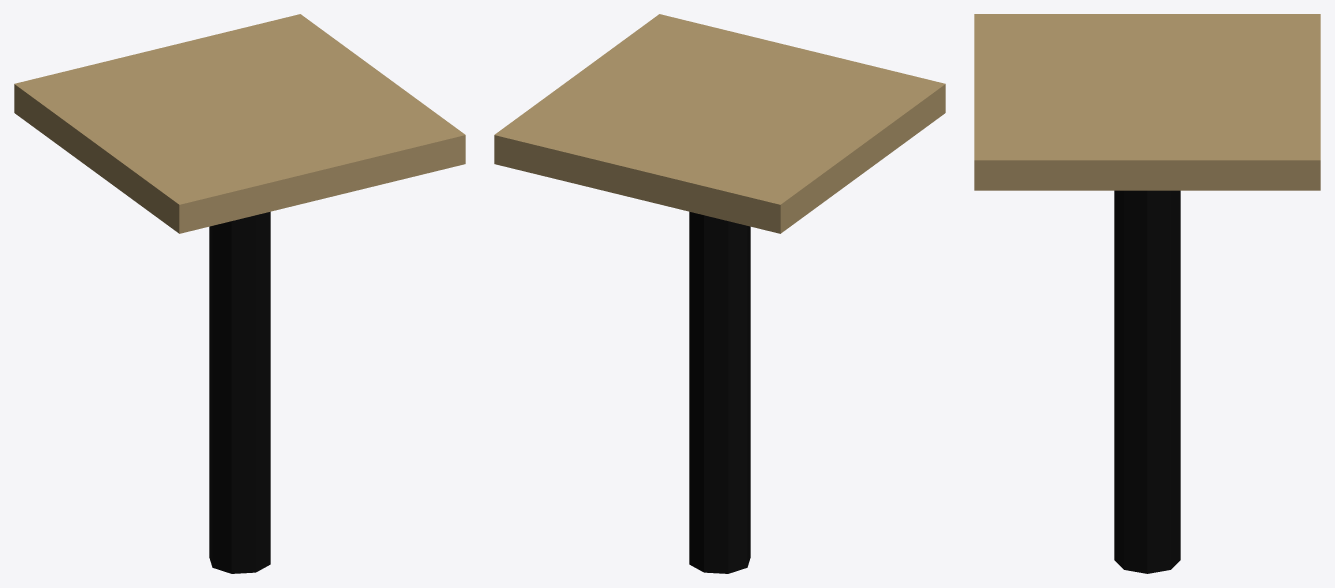
Rendered from ml_table.glb.
3 views of the same model, side by side, from view 1: azimuth 30°, elevation 25°; view 2: azimuth 150°, elevation 25°; view 3: azimuth 270°, elevation 25° (orthographic). The views are drawn at different scales.
Visible parts, largest first — view 1: Cube, Cylinder; view 2: Cube, Cylinder; view 3: Cube, Cylinder.
Boxes of the visible parts, x1,y1,x2,y2 form: Cube: [14, 14, 465, 233]; Cylinder: [209, 211, 270, 573]; Cube: [494, 14, 945, 233]; Cylinder: [689, 211, 750, 573]; Cube: [974, 14, 1320, 190]; Cylinder: [1114, 190, 1180, 573].
Size of the model in its own units: 0.7542 by 1.14 by 0.7542.
